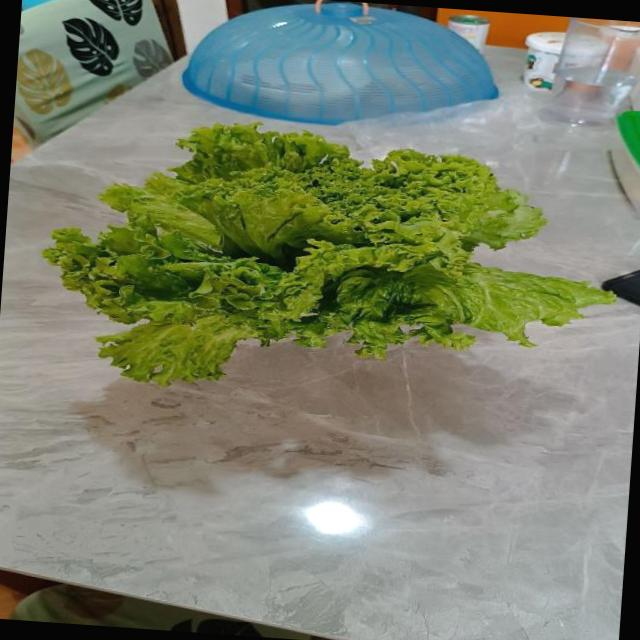Lettuce-Ready-to-Harvest: (44, 123, 612, 384)
